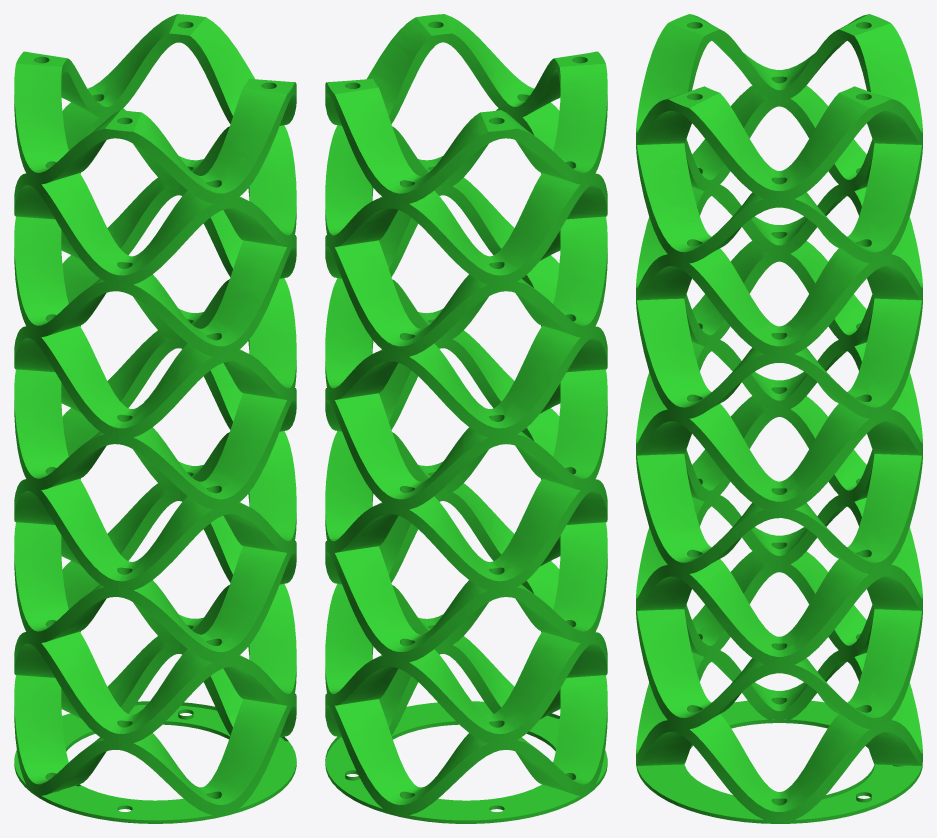
Rendered from single_segment.dae.
3 views of the same model, side by side, from view 1: azimuth 30°, elevation 25°; view 2: azimuth 150°, elevation 25°; view 3: azimuth 270°, elevation 25° (orthographic).
Visible parts, largest first — view 1: Single_section.step.STEP; view 2: Single_section.step.STEP; view 3: Single_section.step.STEP.
Boxes of the visible parts, x1,y1,x2,y2 form: Single_section.step.STEP: (14, 14, 296, 823); Single_section.step.STEP: (325, 14, 607, 823); Single_section.step.STEP: (636, 14, 922, 823).
Size of the model in its own units: 36 by 36 by 97.25.
